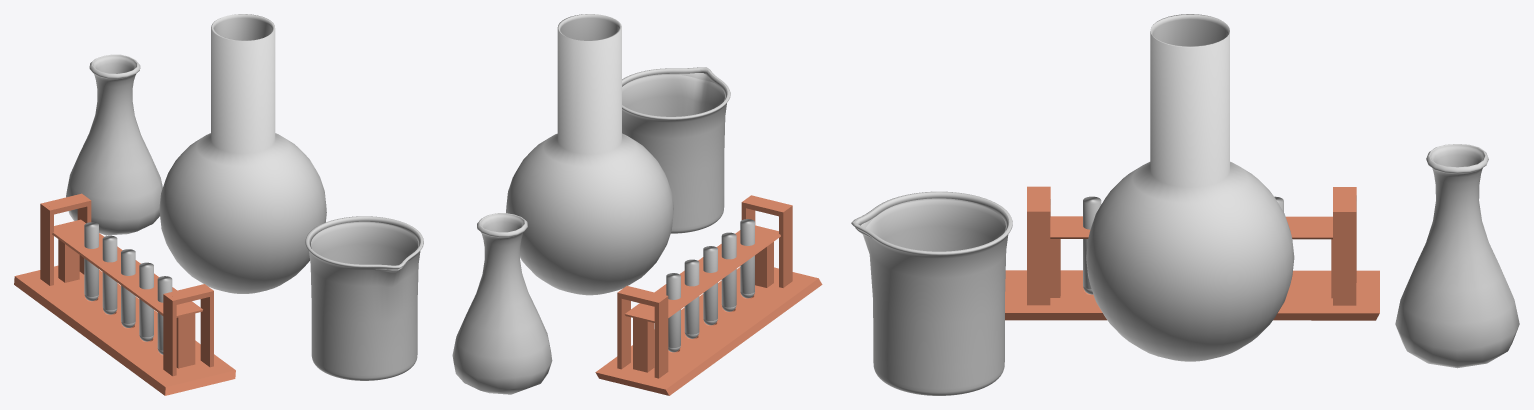
Rendered from chems.fbx.
3 views of the same model, side by side, from view 1: azimuth 30°, elevation 25°; view 2: azimuth 150°, elevation 25°; view 3: azimuth 270°, elevation 25° (orthographic). The views are drawn at different scales.
Parts seen in each view (by area): view 1: Sphere, Plane.002, Cylinder, Plane.001, Cylinder.002; view 2: Sphere, Plane.002, Cylinder, Plane.001, Cylinder.002; view 3: Sphere, Cylinder, Plane.001, Plane.002, Cylinder.002.
Boxes of the visible parts, x1,y1,x2,y2 form: Sphere: (159, 14, 326, 293); Plane.002: (14, 193, 235, 395); Cylinder: (305, 216, 423, 380); Plane.001: (66, 54, 162, 235); Cylinder.002: (84, 222, 172, 354); Sphere: (506, 14, 673, 295); Plane.002: (595, 195, 822, 395); Cylinder: (622, 67, 730, 233); Plane.001: (452, 213, 552, 394); Cylinder.002: (666, 219, 754, 352); Sphere: (1086, 14, 1294, 361); Cylinder: (851, 191, 1012, 395); Plane.001: (1395, 144, 1519, 368); Plane.002: (1005, 186, 1379, 320); Cylinder.002: (1083, 196, 1283, 294).
Size of what is drawn, in the model's own units: 313 by 361 by 642.
